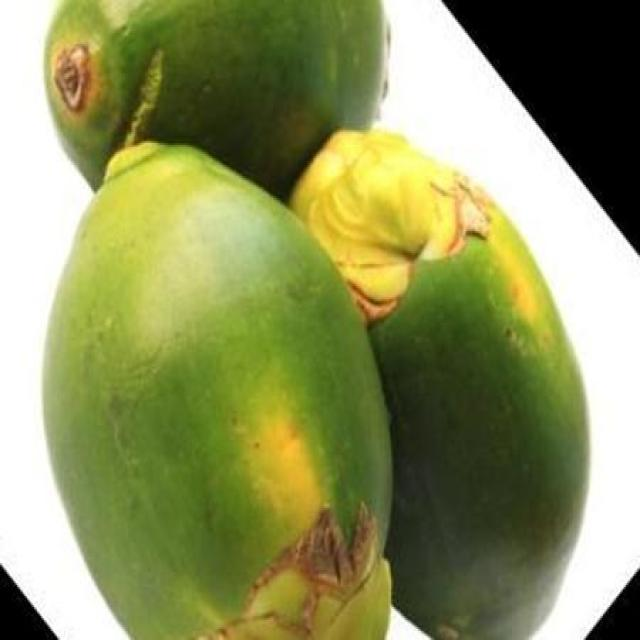good: (40, 141, 395, 638), (313, 130, 590, 638), (47, 0, 388, 205)
